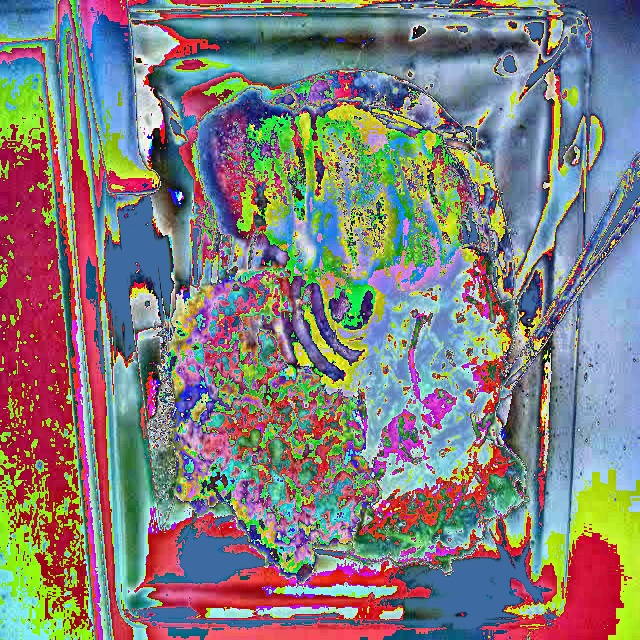background: (166, 87, 529, 587)
